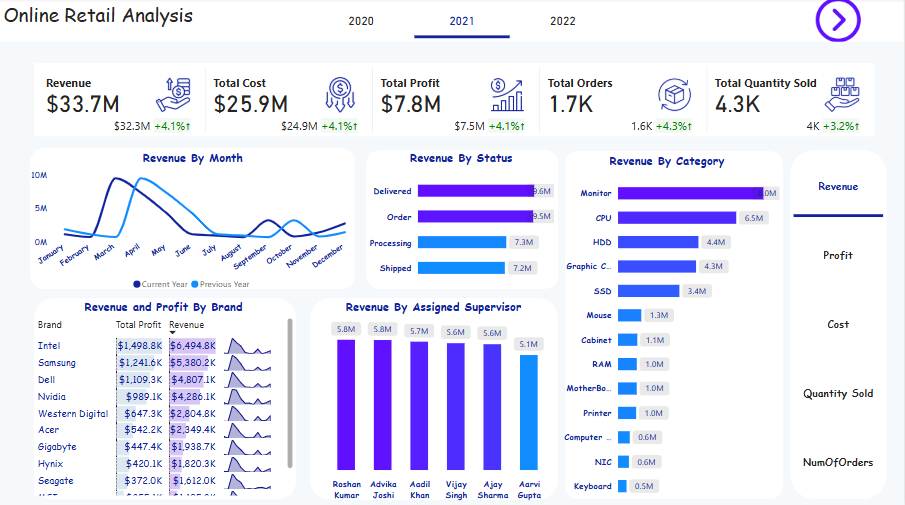

What the dashboard file says about the page in this screenshot:
{"tool":"powerbi","page":{"name":"Overview","canvas":[1280,720],"ordinal":1},"visuals":[{"type":"group","id":"g1","title":"Group 1","box":[0,0,1280,62],"z":0},{"type":"textbox","box":[0,0,1280,62],"z":0,"group":"g1"},{"type":"advancedSlicerVisual","fields":{"Values":["Online-eCommerce.Order Date.Variation.Date Hierarchy.Year"]},"box":[438.8,0,431.2,62],"z":1000,"group":"g1"},{"type":"shape","box":[1119.7,215.4,137.5,494.6],"z":1000},{"type":"shape","box":[800.8,216.9,309,493.2],"z":2000},{"type":"shape","box":[518.1,216,272.9,197],"z":3000},{"type":"shape","box":[439.3,424.7,351.7,286.1],"z":4000},{"type":"shape","box":[48.2,424.7,372.2,286.1],"z":5000},{"type":"shape","box":[42.3,213.1,461.2,200],"z":6000},{"type":"cardVisual","fields":{"Data":["_Measures.Revenue","_Measures.Total Cost","_Measures.Total Profit","_Measures.Total Orders","_Measures.Total Quantity Sold"]},"box":[48.4,92.3,1190.7,104.4],"z":7000},{"type":"lineChart","fields":{"Category":["Online-eCommerce.Order Date.Variation.Date Hierarchy.Month"],"Y":["_Measures.DynamicMeasure","_Measures.DynamicMeasurePM"]},"box":[37.9,214.5,470,210.2],"z":8000},{"type":"columnChart","fields":{"Category":["Online-eCommerce.Assigned Supervisor"],"Y":["_Measures.DynamicMeasure"]},"box":[439.3,424.7,350.3,294.8],"z":9000},{"type":"tableEx","title":"Revenue and Profit By Brand","fields":{"Values":["Online-eCommerce.Brand","_Measures.Total Profit","_Measures.Revenue","_Measures.Revenue Sparkline"]},"box":[42.5,425.2,378.4,284.9],"z":10000},{"type":"barChart","fields":{"Category":["Online-eCommerce.Status"],"Y":["_Measures.DynamicMeasure"]},"box":[516.7,214.5,272.9,198.5],"z":11000},{"type":"clusteredBarChart","fields":{"Category":["Online-eCommerce.Category"],"Y":["_Measures.DynamicMeasure"]},"box":[780.9,218.3,328.8,501.7],"z":12000},{"type":"advancedSlicerVisual","fields":{"Values":["Selection Table.Measure Name"]},"box":[1119.7,215.4,137.5,494.6],"z":13000},{"type":"actionButton","box":[1138.1,0,100.6,62.4],"z":14000}]}

Visuals, with their boxes in screenshot pixels (x1, y1, x2, y2), scaled from the page's 1280x720 canvas onto the 905x505 screenshot:
"Group 1" group: {"x1": 0, "y1": 0, "x2": 904, "y2": 43}
textbox: {"x1": 0, "y1": 0, "x2": 904, "y2": 43}
advancedSlicerVisual - Online-eCommerce.Order Date.Variation.Date Hierarchy.Year: {"x1": 310, "y1": 0, "x2": 615, "y2": 43}
shape: {"x1": 792, "y1": 151, "x2": 889, "y2": 498}
shape: {"x1": 566, "y1": 152, "x2": 785, "y2": 498}
shape: {"x1": 366, "y1": 152, "x2": 559, "y2": 290}
shape: {"x1": 311, "y1": 298, "x2": 559, "y2": 499}
shape: {"x1": 34, "y1": 298, "x2": 297, "y2": 499}
shape: {"x1": 30, "y1": 149, "x2": 356, "y2": 290}
cardVisual - _Measures.Revenue x _Measures.Total Cost: {"x1": 34, "y1": 65, "x2": 876, "y2": 138}
lineChart - Online-eCommerce.Order Date.Variation.Date Hierarchy.Month x _Measures.DynamicMeasure: {"x1": 27, "y1": 150, "x2": 359, "y2": 298}
columnChart - Online-eCommerce.Assigned Supervisor x _Measures.DynamicMeasure: {"x1": 311, "y1": 298, "x2": 558, "y2": 504}
"Revenue and Profit By Brand" tableEx: {"x1": 30, "y1": 298, "x2": 298, "y2": 498}
barChart - Online-eCommerce.Status x _Measures.DynamicMeasure: {"x1": 365, "y1": 150, "x2": 558, "y2": 290}
clusteredBarChart - Online-eCommerce.Category x _Measures.DynamicMeasure: {"x1": 552, "y1": 153, "x2": 785, "y2": 504}
advancedSlicerVisual - Selection Table.Measure Name: {"x1": 792, "y1": 151, "x2": 889, "y2": 498}
actionButton: {"x1": 805, "y1": 0, "x2": 876, "y2": 44}
